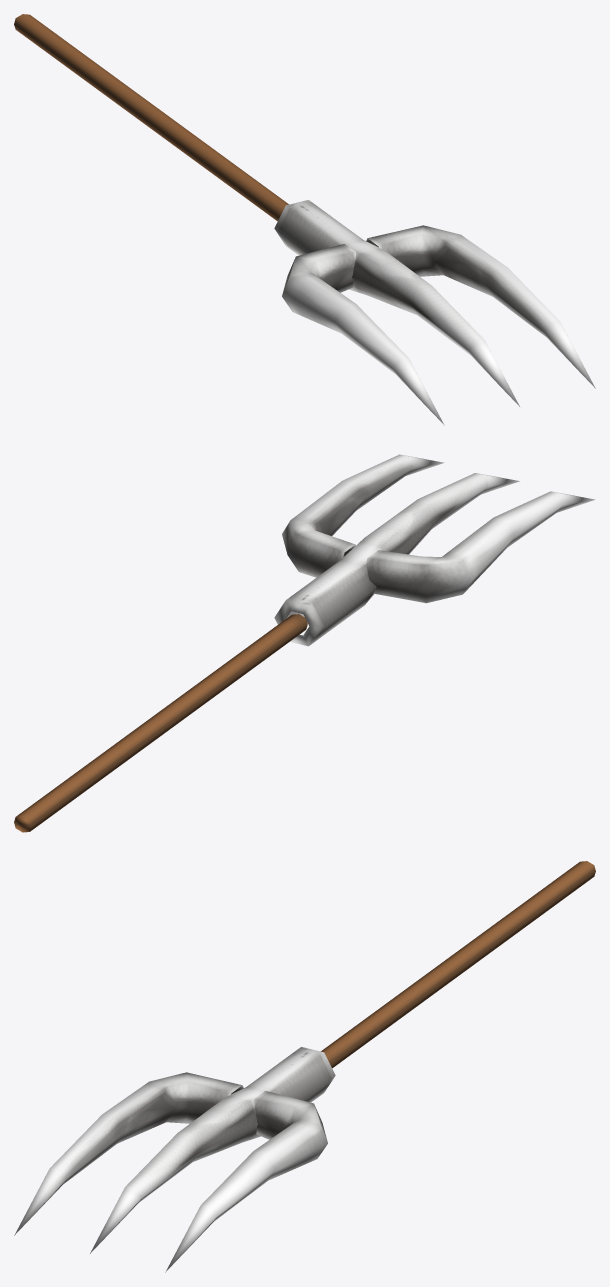
File: Hoefork.fbx
The picture shows the model from 3 angles, top to bottom: view 1: azimuth 30°, elevation 25°; view 2: azimuth 150°, elevation 25°; view 3: azimuth 330°, elevation 25°; orthographic projection.
Parts seen in each view (by area): view 1: Hoefork; view 2: Hoefork; view 3: Hoefork.
Part boxes in pixels (left/top/right/bottom): Hoefork: left=14, top=14, right=595, bottom=425; Hoefork: left=14, top=454, right=595, bottom=832; Hoefork: left=14, top=861, right=595, bottom=1272.
Size of the model in its own units: 1.95 by 0.4905 by 8.84.
